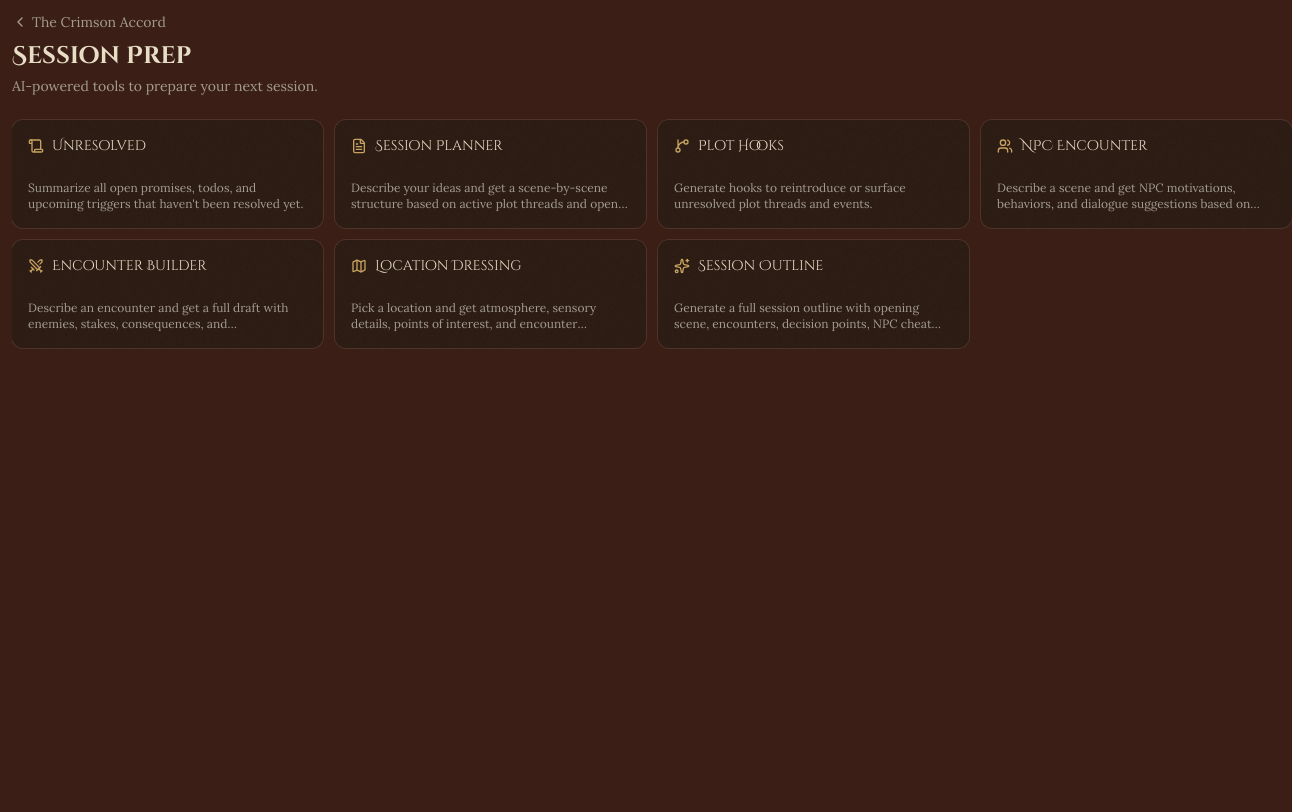
it: SessionPrep › shows encounter description input for encounter builder
Click the text "Encounter Builder" at (168, 294), box [12,240,323,348]
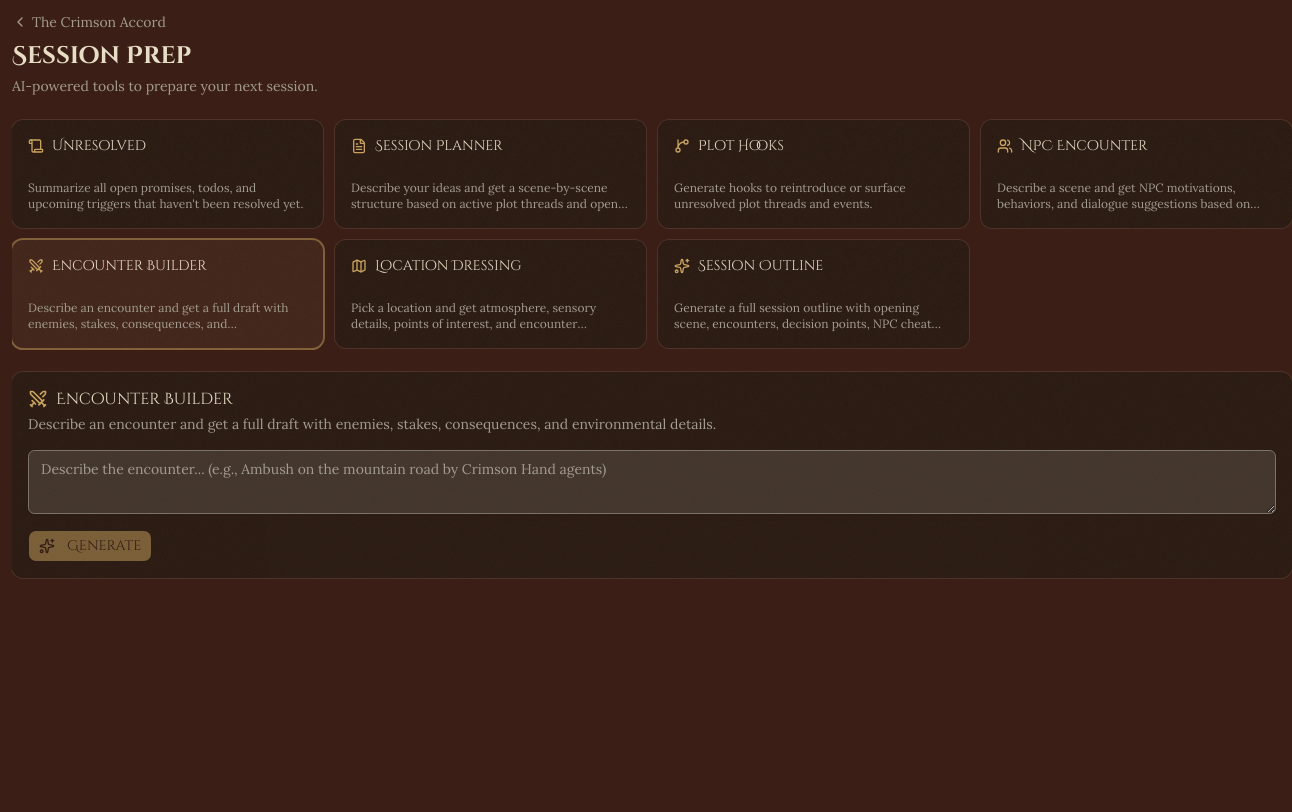
Expected: the text box with placeholder "Describe the encounter" is shown, [28,450,1276,514]
